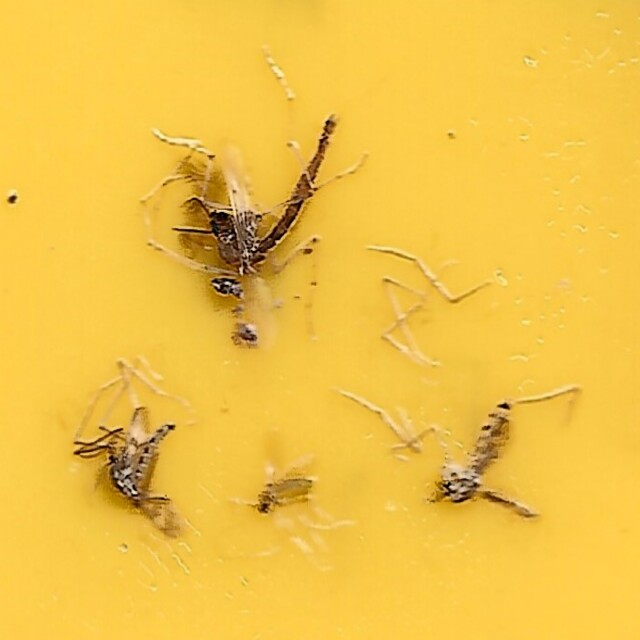Nematocera: (190, 109, 335, 279), (429, 397, 546, 529), (94, 416, 180, 531), (251, 470, 317, 519)
